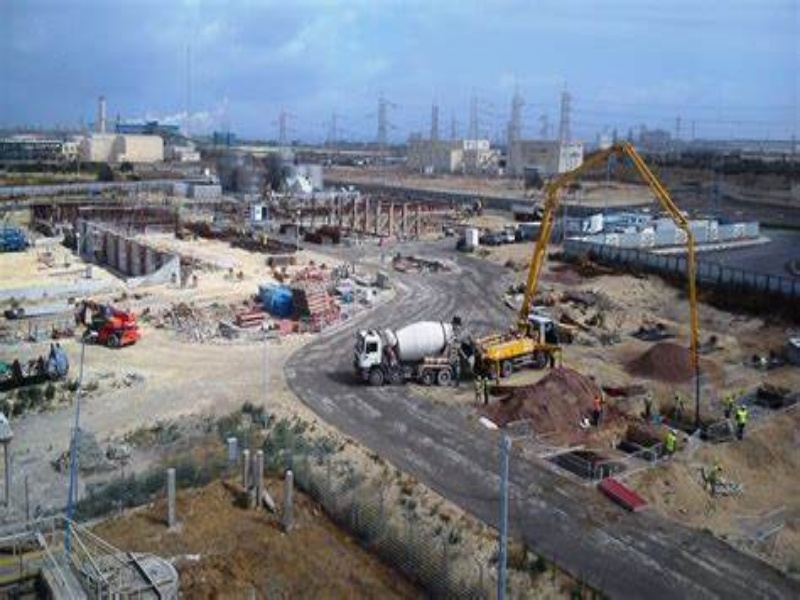pump truck: (458, 136, 708, 397)
vehicle: (351, 319, 456, 391), (71, 299, 142, 351)
